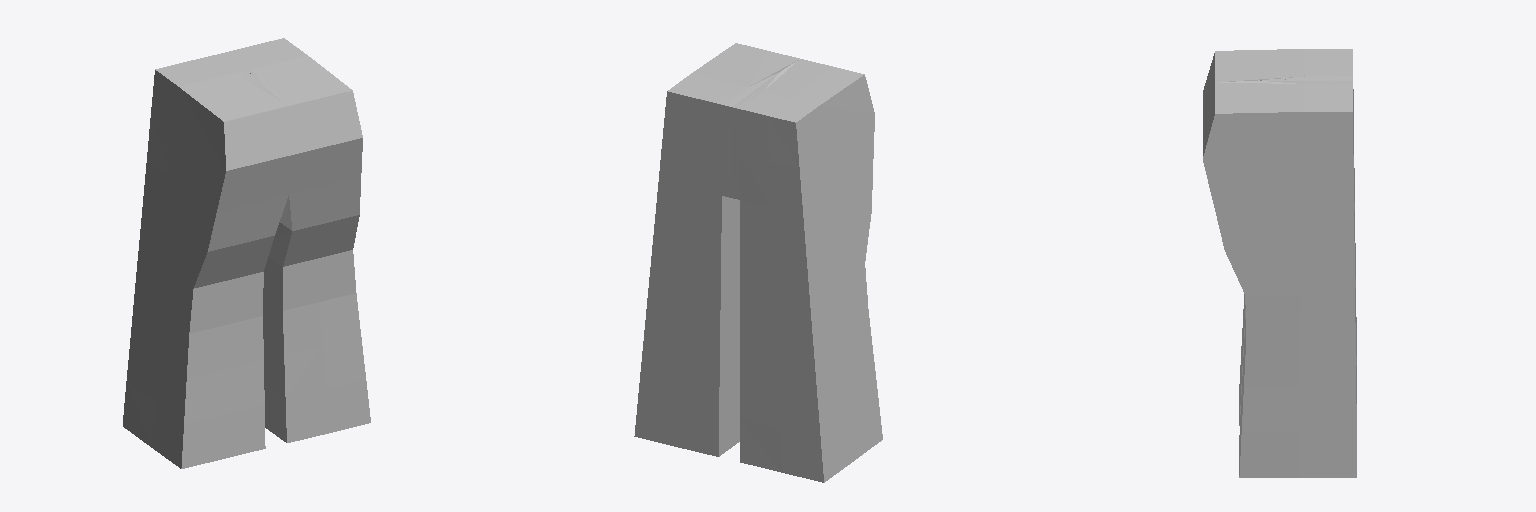
File: pants.obj
3 renders of one model, left to right at view 1: azimuth 30°, elevation 25°; view 2: azimuth 150°, elevation 25°; view 3: azimuth 270°, elevation 25°, orthographic.
Visible parts, largest first — view 1: pants; view 2: pants; view 3: pants.
Part boxes in pixels (bbox=[...]): pants: bbox=[123, 38, 370, 468]; pants: bbox=[634, 43, 882, 482]; pants: bbox=[1203, 49, 1356, 477].
Size of the model in its own units: 13.94 by 24.65 by 9.85.